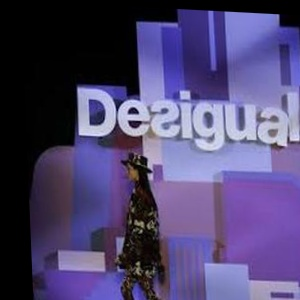desigual: (260, 50, 300, 126)
